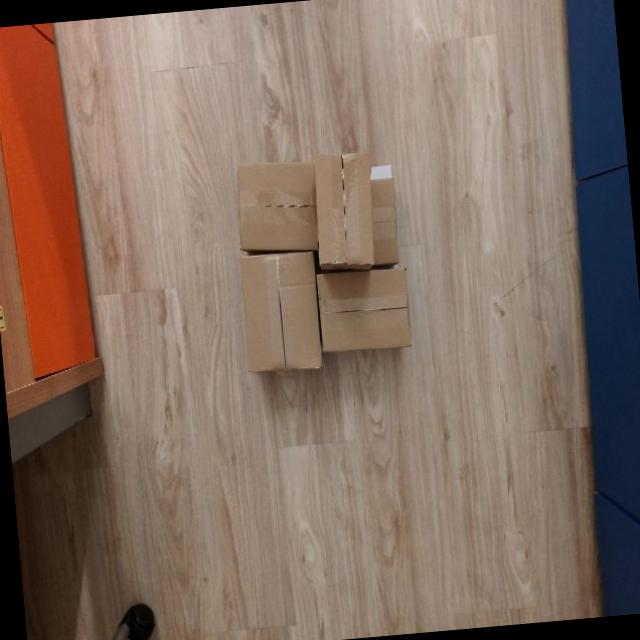box: (234, 246, 326, 376), (312, 263, 418, 358), (306, 148, 382, 274), (230, 154, 322, 256)
